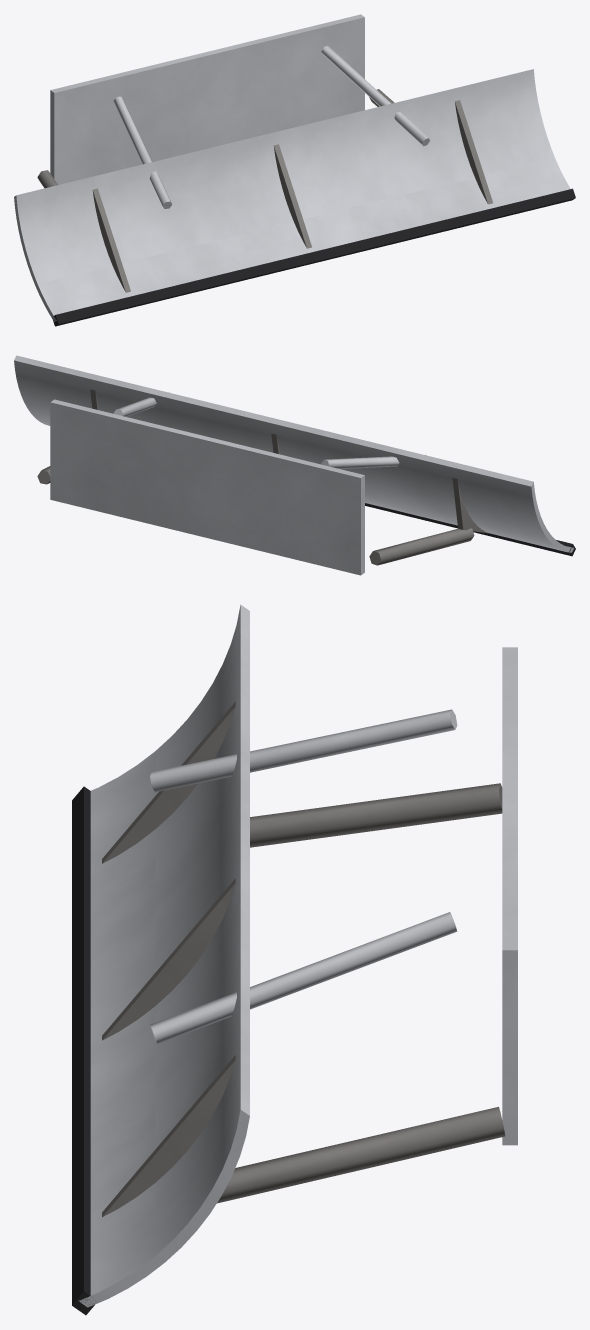
File: rover32_dozer_scoop_l_scoop.glb
The picture shows the model from 3 angles, top to bottom: view 1: azimuth 30°, elevation 25°; view 2: azimuth 150°, elevation 25°; view 3: azimuth 270°, elevation 25°; orthographic projection. The views are drawn at different scales.
Parts seen in each view (by area): view 1: blade, mount_plate, blade_edge, blade_ribs, arm_rams; view 2: mount_plate, blade, arm_push, arm_rams, blade_ribs, blade_edge; view 3: blade, arm_push, arm_rams, blade_ribs, blade_edge, mount_plate.
Boxes of the visible parts, bbox=[...] form: blade: bbox=[14, 69, 570, 321]; mount_plate: bbox=[50, 14, 364, 184]; blade_edge: bbox=[52, 188, 575, 326]; blade_ribs: bbox=[92, 100, 492, 292]; arm_rams: bbox=[113, 45, 429, 208]; mount_plate: bbox=[50, 399, 364, 575]; blade: bbox=[14, 355, 573, 552]; arm_push: bbox=[37, 466, 474, 565]; arm_rams: bbox=[113, 392, 425, 468]; blade_ribs: bbox=[90, 389, 490, 533]; blade_edge: bbox=[365, 503, 575, 556]; blade: bbox=[79, 604, 249, 1307]; arm_push: bbox=[217, 783, 505, 1203]; arm_rams: bbox=[150, 709, 457, 1044]; blade_ribs: bbox=[102, 701, 235, 1217]; blade_edge: bbox=[72, 786, 94, 1315]; mount_plate: bbox=[502, 647, 517, 1145].
Bounding box in the file's own units: 3 × 0.7321 × 1.12.
3 materials, 2 textured.
